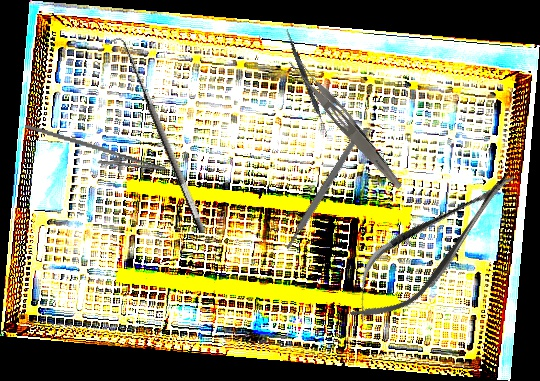Dressing Forceps: (284, 52, 410, 193)
Hook Surgical: (103, 29, 209, 240)
Micro Scissor: (329, 151, 536, 340)
Needle Holder: (19, 123, 170, 183)
Scalpel Handle: (283, 135, 360, 251)
Spatula Surgical: (282, 29, 332, 137)
